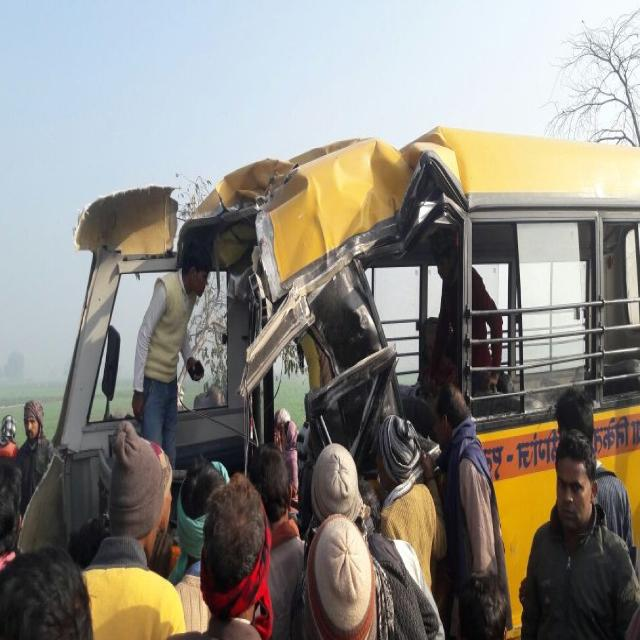accident: (30, 127, 640, 619)
